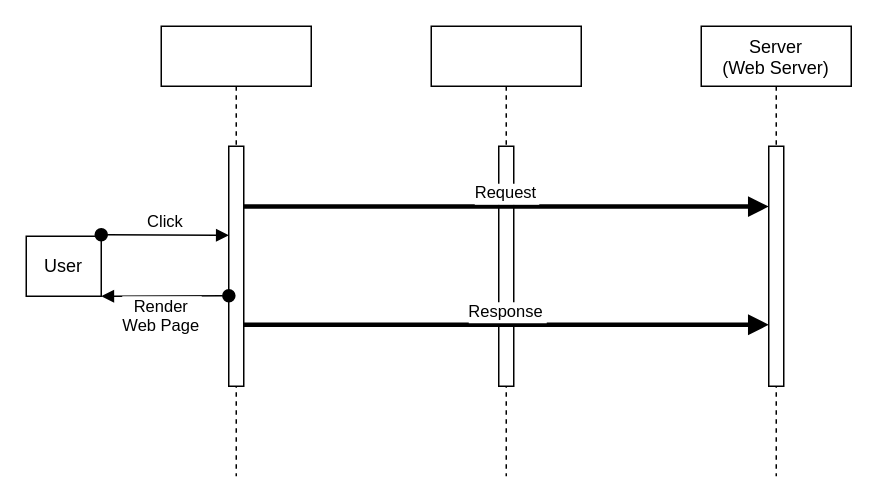
The diagram is 878 pixels wide and 503 high, and some of its shapes have lost their labels. Each missing label, with the box of its shape:
Client (Browser): (160, 25, 311, 476)
Internet (Network): (430, 25, 581, 476)
